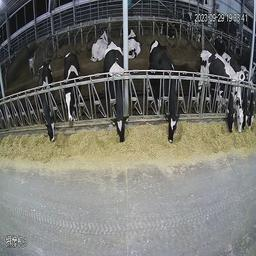cow: (148, 39, 182, 146), (201, 47, 237, 134), (104, 44, 132, 141), (35, 59, 55, 145), (63, 50, 82, 118), (91, 27, 110, 60), (128, 26, 143, 59), (160, 16, 177, 41)
